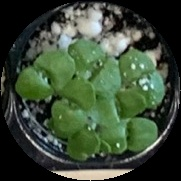Basil: (15, 50, 74, 101), (49, 76, 95, 137), (121, 46, 165, 104), (99, 117, 157, 156), (73, 42, 119, 91), (90, 92, 148, 125)
